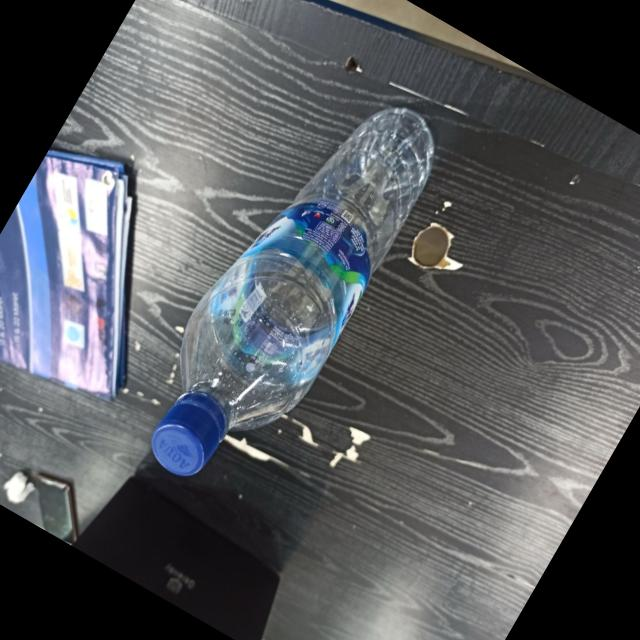BotolPlastik: (116, 66, 458, 514)
